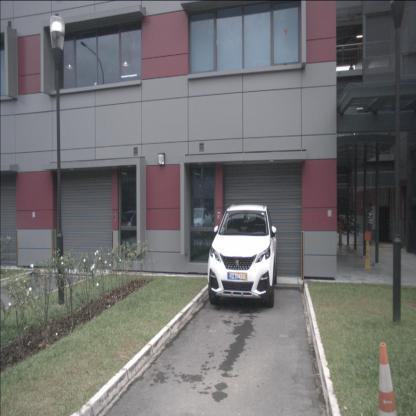cone: (375, 342, 401, 416)
